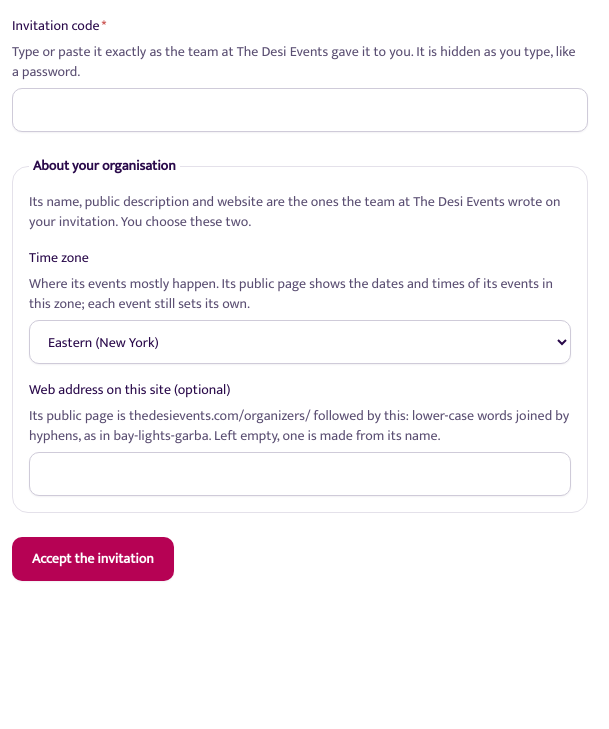
Test case: the accept form › sends a team invitation’s code to where team codes go
Type "Pq7_wE0-rT3yU6iO9pA2sD5fG8hJ1kL4zX7cV0bN3m" into the password field labelled "Invitation code*" at (300, 110), box x1=12 y1=88 x2=588 y2=132
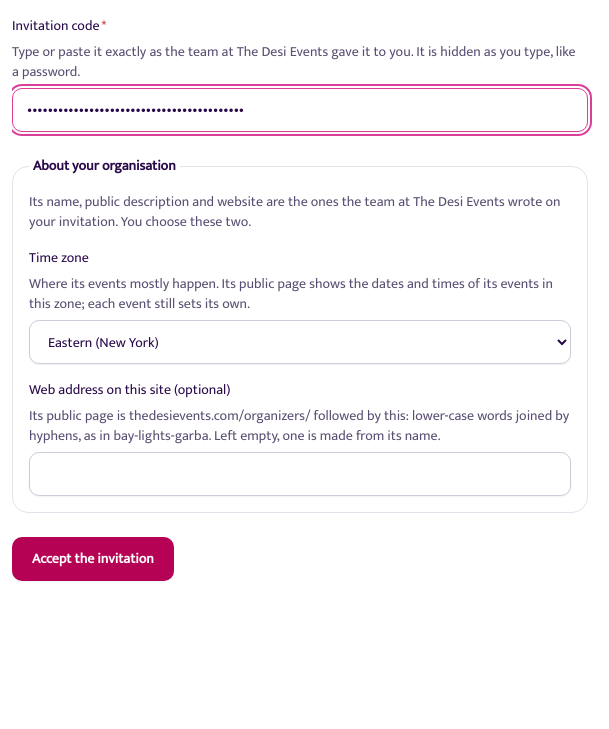
Click the button "Accept the invitation" at (93, 559), box x1=12 y1=537 x2=174 y2=581
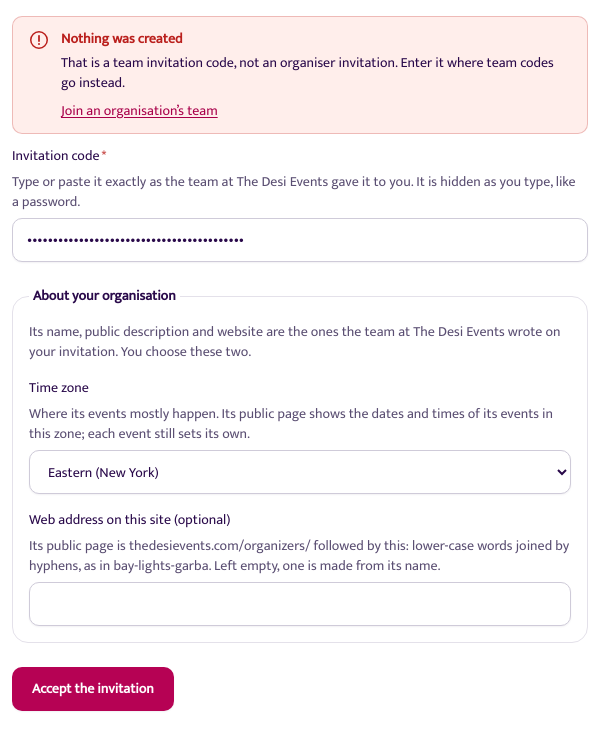
Expected: the text "That is a team invitation code, not an organiser invitation. Enter it where team codes go instead." is shown, x1=61 y1=51 x2=554 y2=94
